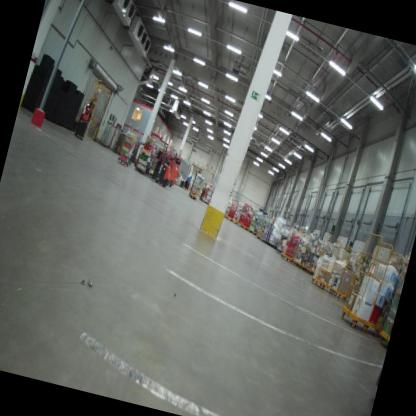pallet_truck: (136, 151, 177, 189), (68, 97, 97, 145), (157, 155, 185, 193), (132, 144, 146, 174)
